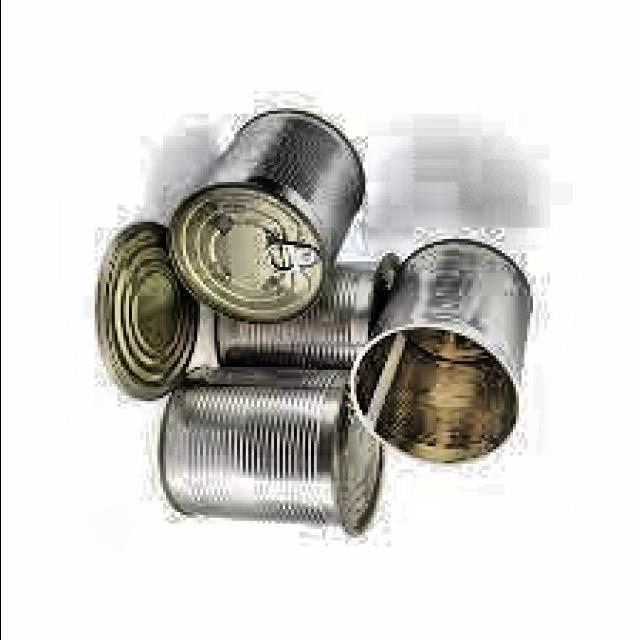litter: (341, 228, 542, 472), (162, 104, 371, 326), (143, 364, 388, 544), (208, 249, 420, 381), (90, 216, 212, 411)
